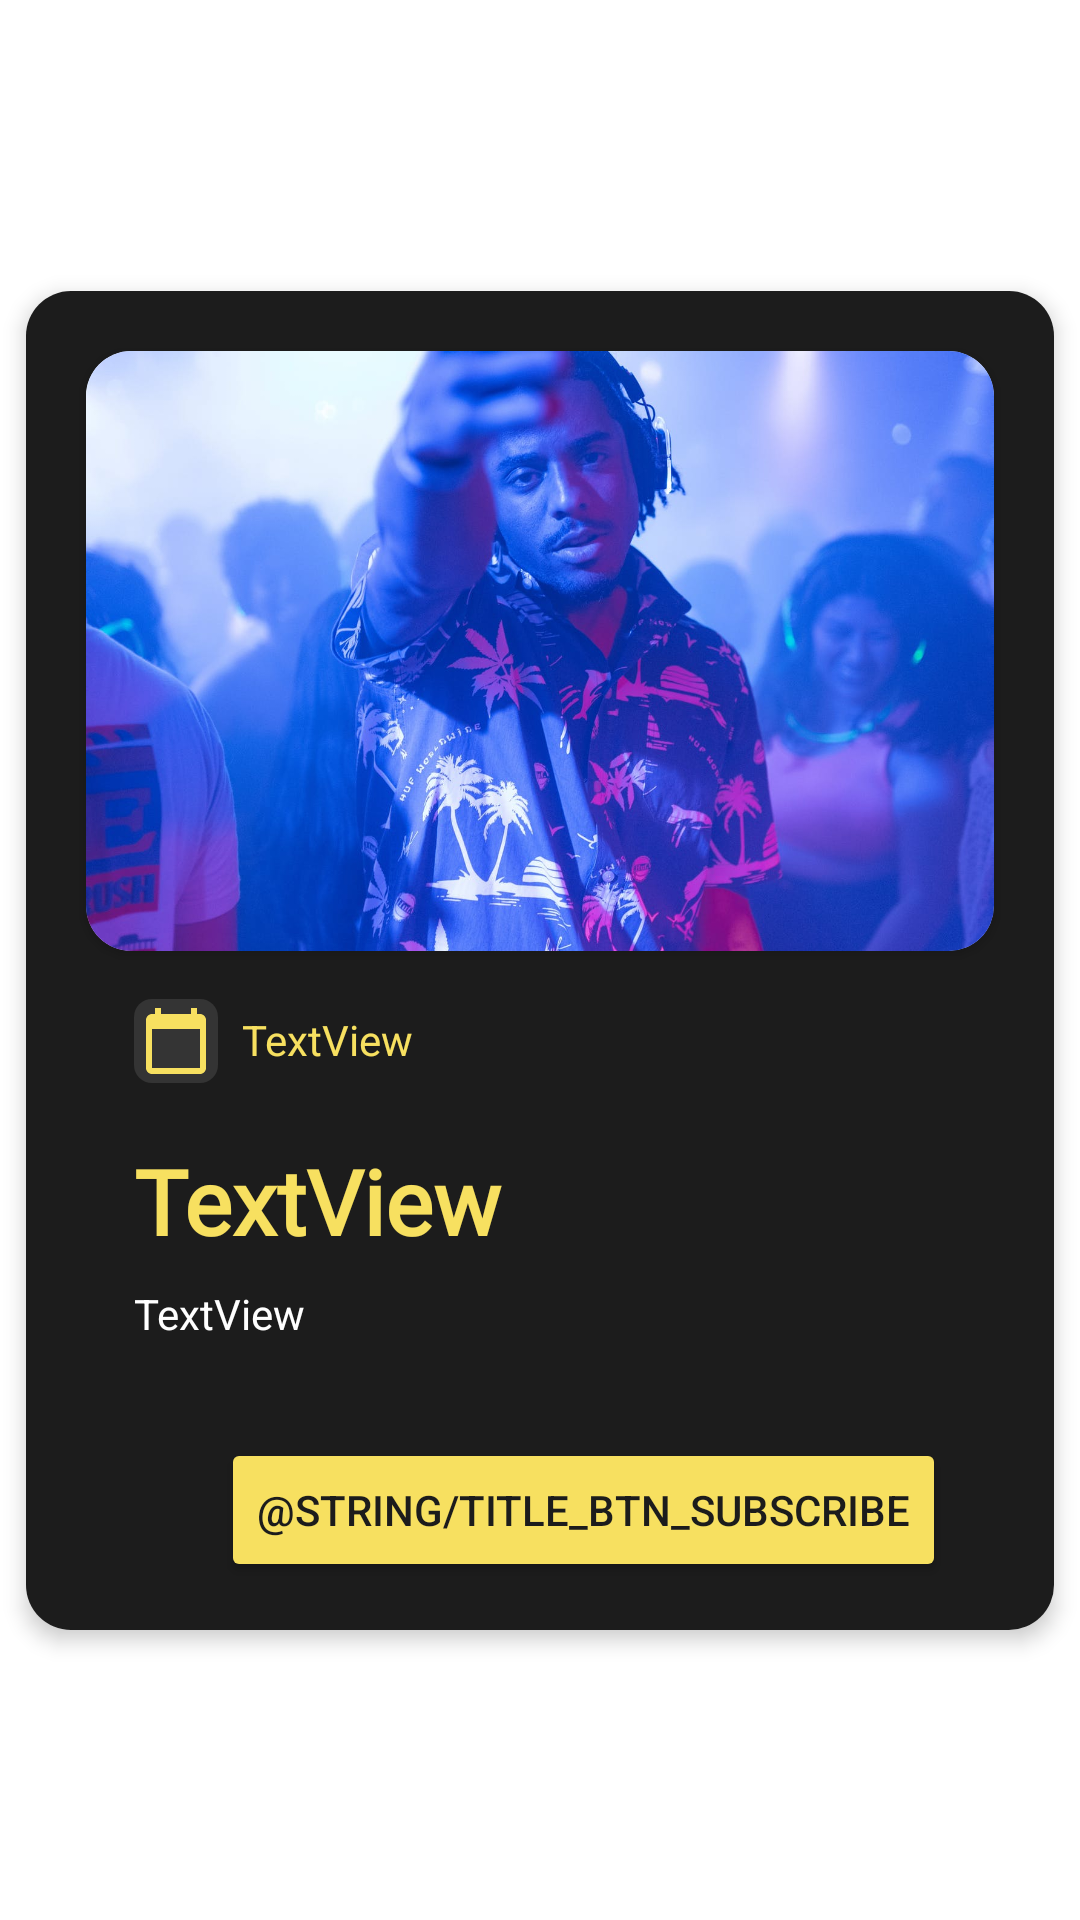

Where to tap for icons on this 1080*1920 app screen, as (x=x, y=y):
calendar: (x=176, y=1041)
